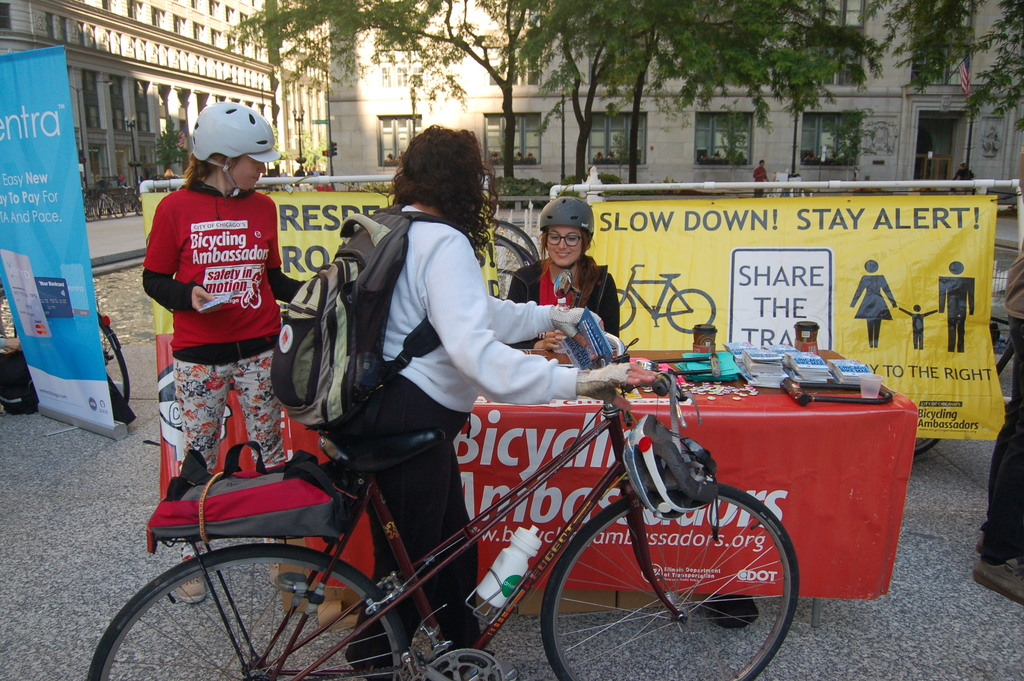Bike: (159, 376, 780, 681)
